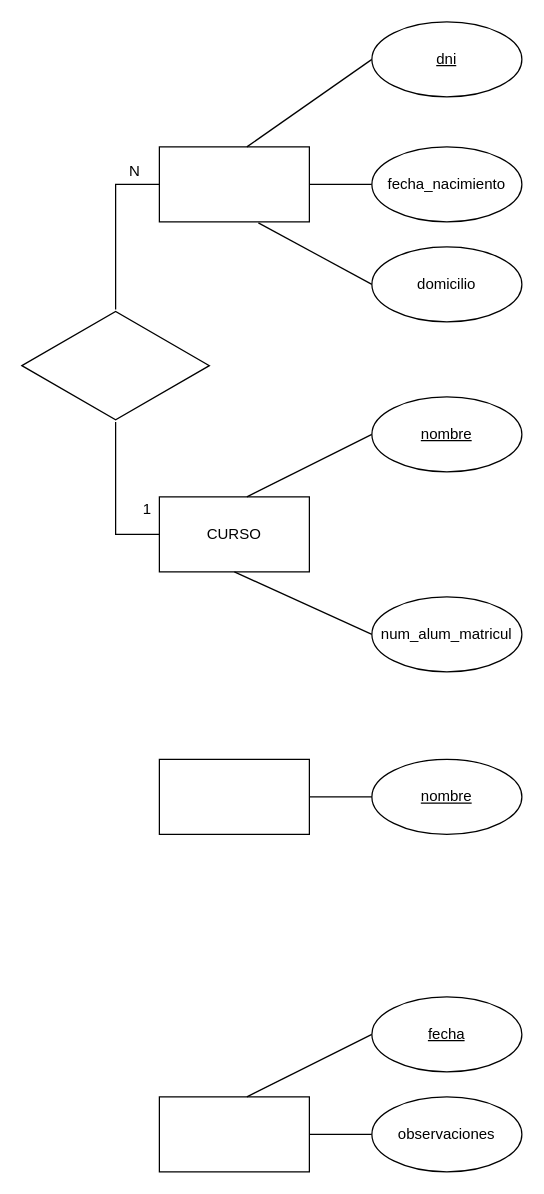
Image size: 544x1194. Some labels were removed from this diagram. Here are the shapes that lost their labels. From the top down, the box of each, then its label:
(158, 146, 309, 222): ALUMNO
(21, 308, 209, 422): Esta matriculado
(158, 758, 309, 834): SECCION
(158, 1096, 309, 1172): HISTORIAL
